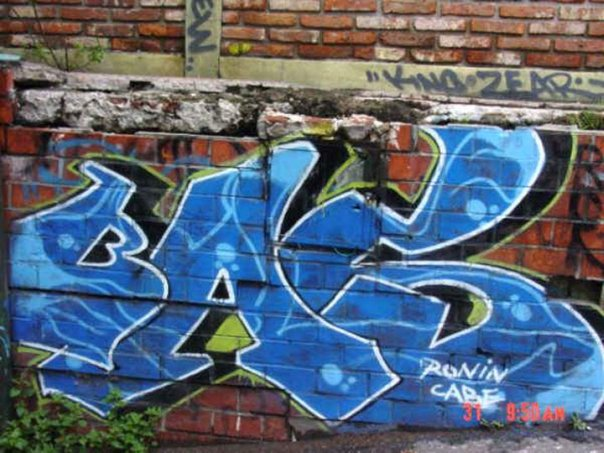graffity: (6, 118, 603, 429), (364, 62, 602, 109), (175, 1, 226, 79)
